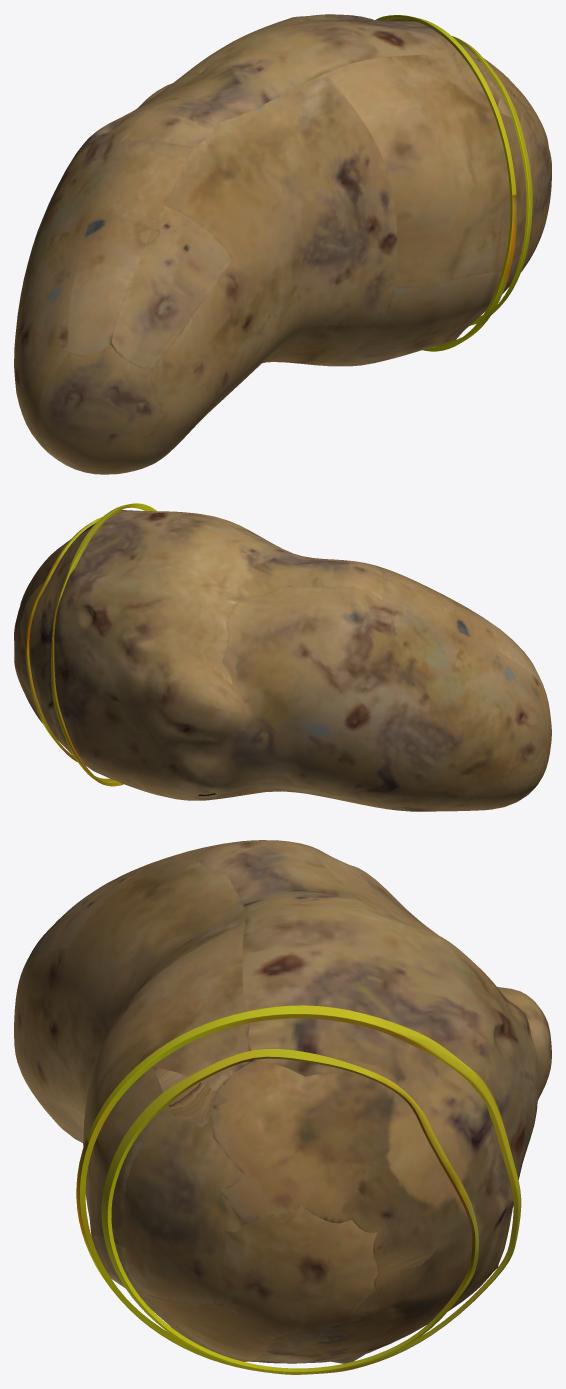
The model's file is potato.fbx.
The picture shows the model from 3 angles, top to bottom: view 1: azimuth 30°, elevation 25°; view 2: azimuth 150°, elevation 25°; view 3: azimuth 270°, elevation 25°; orthographic projection. The views are drawn at different scales.
Visible parts, largest first — view 1: Potato_Glados.001; view 2: Potato_Glados.001; view 3: Potato_Glados.001.
Boxes of the visible parts, x1=… form: Potato_Glados.001: x1=14, y1=14, x2=551, y2=474; Potato_Glados.001: x1=14, y1=503, x2=551, y2=811; Potato_Glados.001: x1=14, y1=840, x2=551, y2=1374.
Size of the model in its own units: 142 by 76.17 by 91.33.
